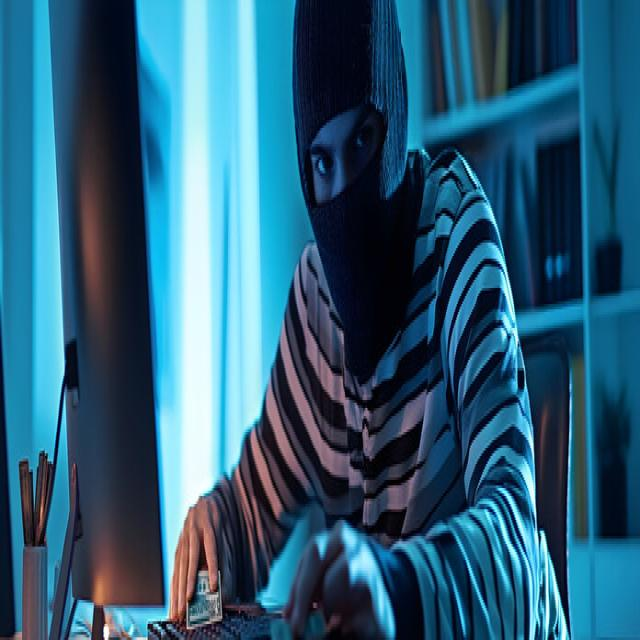person-with-mask: (196, 2, 549, 640)
